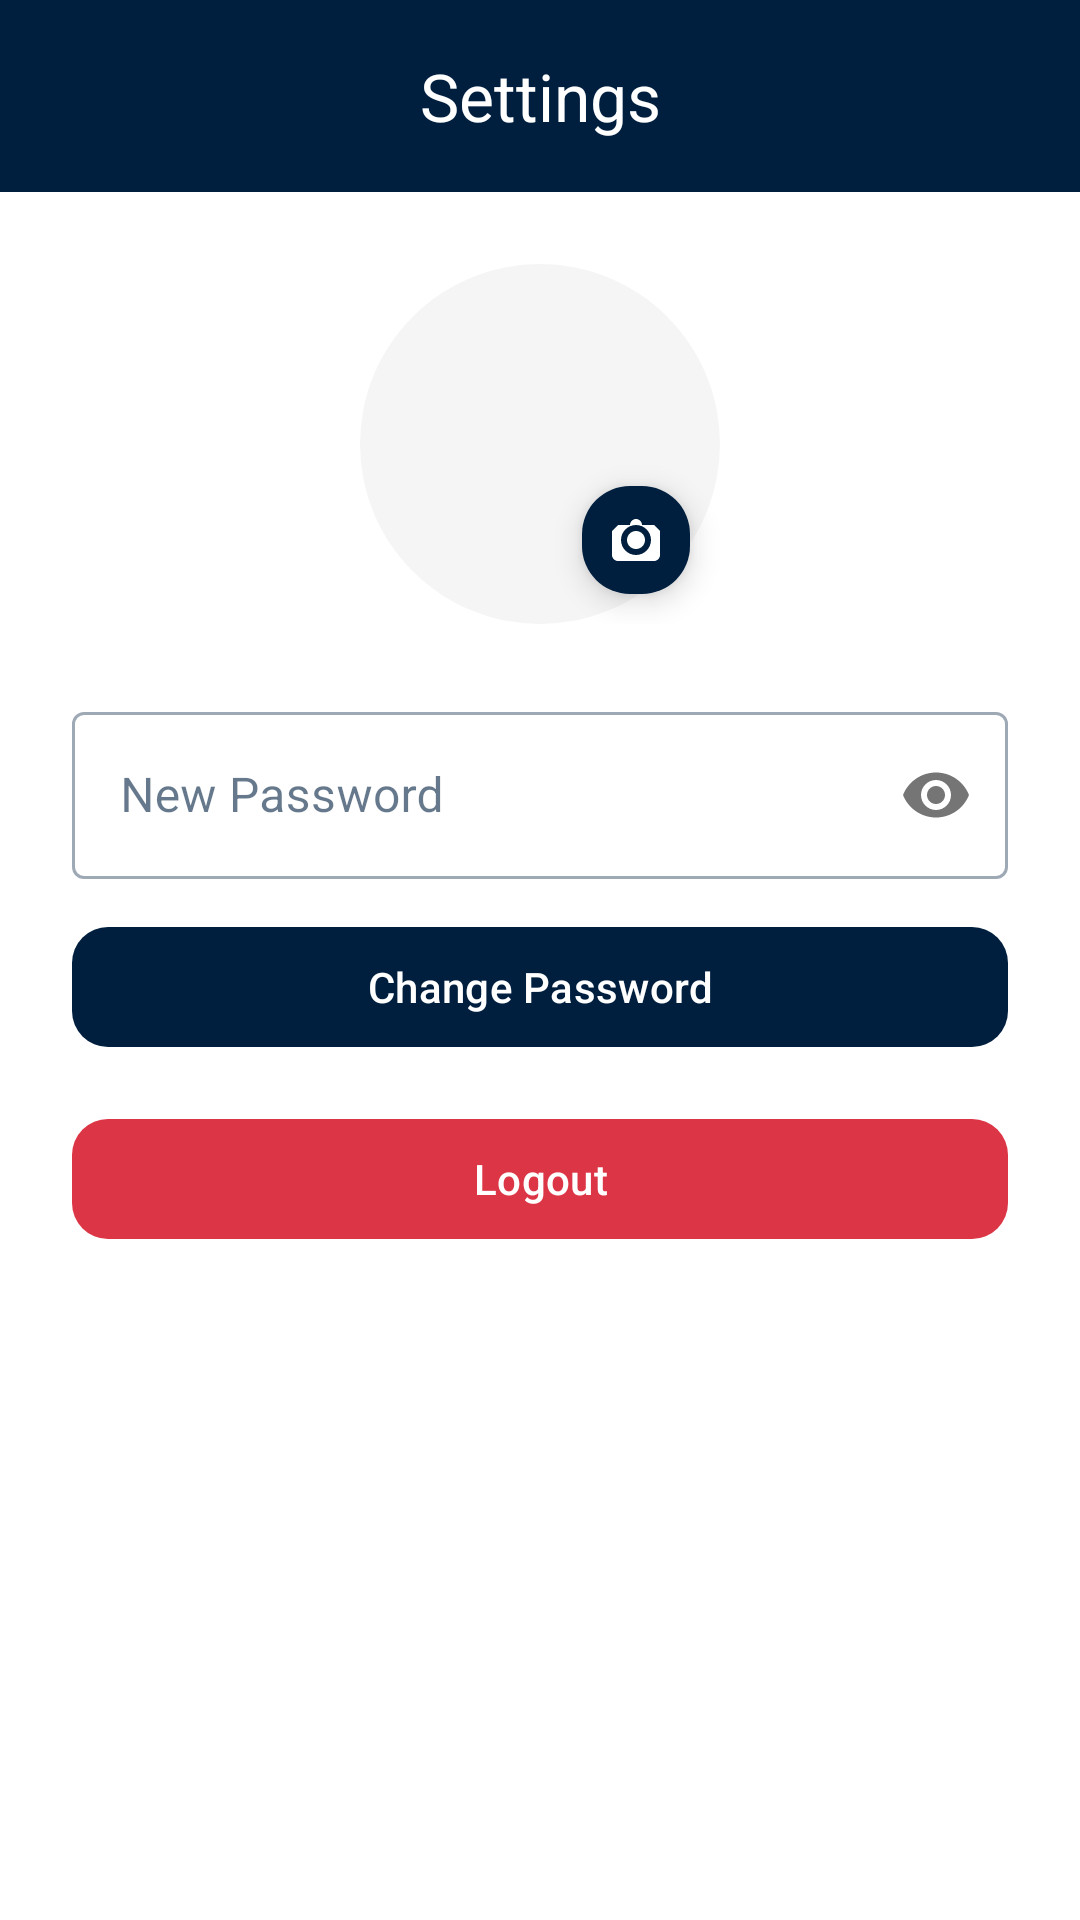

Named icons in this screenshot (1080*1920) and their bounding boxes, BBox(x1, y1, x2, y2):
Change Avatar: BBox(582, 486, 690, 597)
